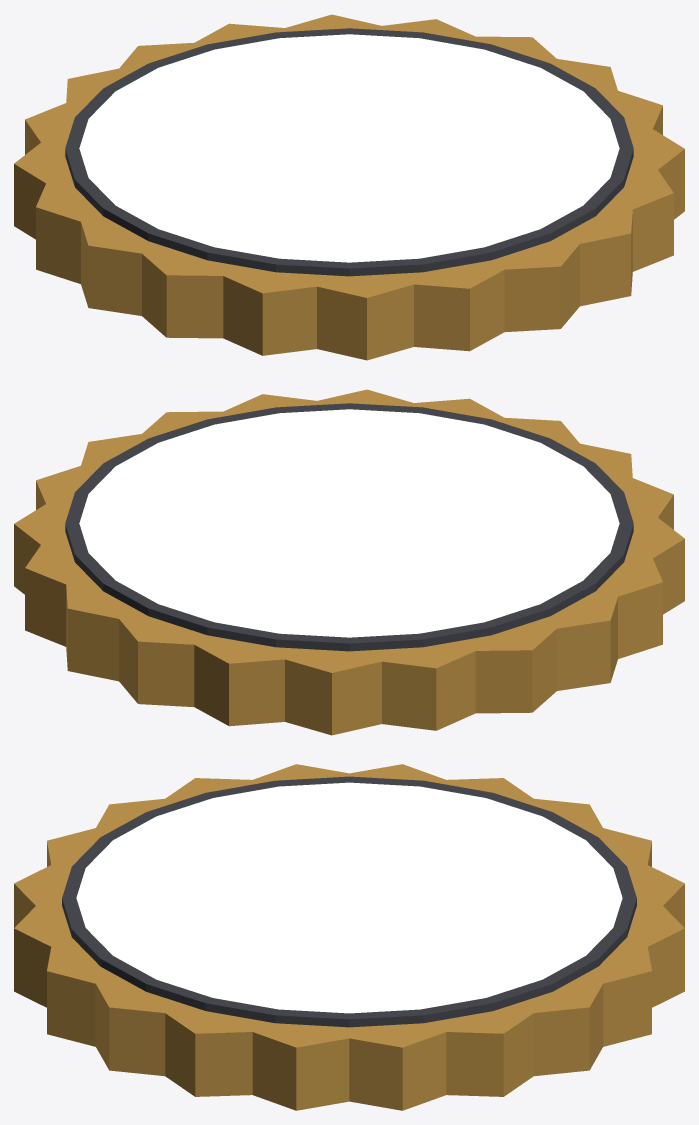
File: lens_medium.glb
The picture shows the model from 3 angles, top to bottom: view 1: azimuth 30°, elevation 25°; view 2: azimuth 150°, elevation 25°; view 3: azimuth 270°, elevation 25°; orthographic projection.
Visible parts, largest first — view 1: Lens_Medium_Glow_lens, Lens_Medium_Brass, Lens_Medium_Darksteel; view 2: Lens_Medium_Glow_lens, Lens_Medium_Brass, Lens_Medium_Darksteel; view 3: Lens_Medium_Glow_lens, Lens_Medium_Brass, Lens_Medium_Darksteel.
Part boxes in pixels (left/top/right/bottom): Lens_Medium_Glow_lens: left=79, top=34, right=619, bottom=262; Lens_Medium_Brass: left=14, top=14, right=684, bottom=360; Lens_Medium_Darksteel: left=65, top=28, right=633, bottom=276; Lens_Medium_Glow_lens: left=79, top=409, right=619, bottom=637; Lens_Medium_Brass: left=14, top=389, right=684, bottom=735; Lens_Medium_Darksteel: left=65, top=403, right=633, bottom=651; Lens_Medium_Glow_lens: left=76, top=782, right=622, bottom=1013; Lens_Medium_Brass: left=14, top=764, right=684, bottom=1110; Lens_Medium_Darksteel: left=62, top=776, right=636, bottom=1027.
Bounding box in the file's own units: 0.0385 × 0.0072 × 0.0385.
